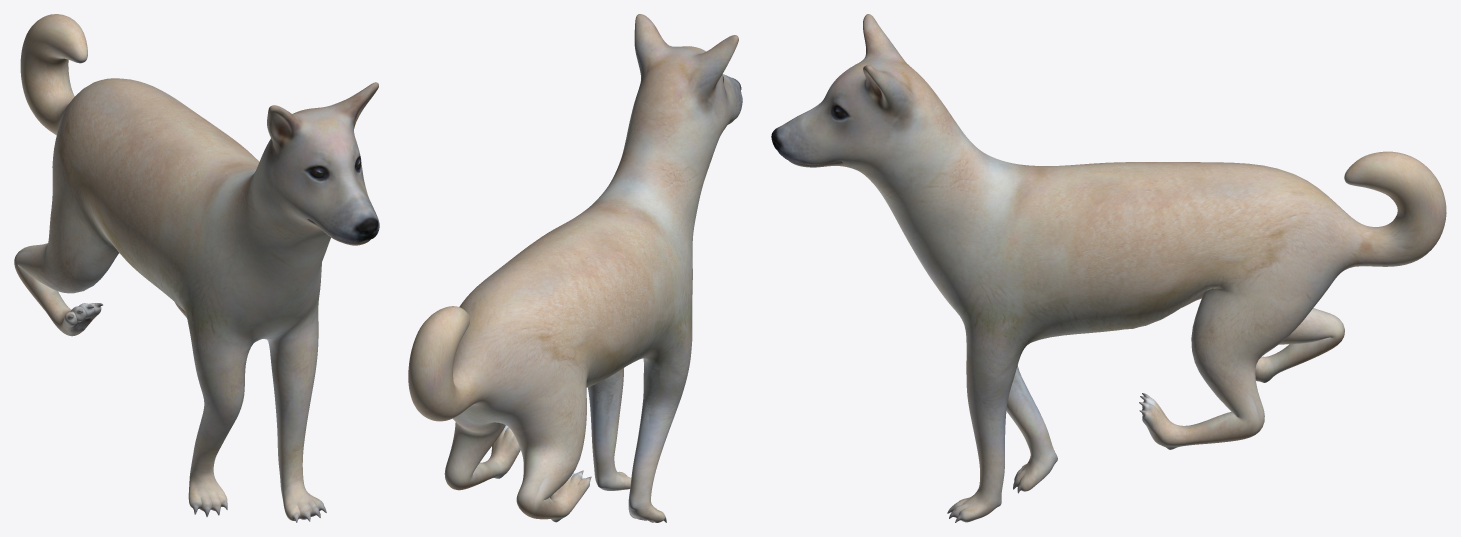
File: dog.glb
The picture shows the model from 3 angles, left to right: view 1: azimuth 30°, elevation 25°; view 2: azimuth 150°, elevation 25°; view 3: azimuth 270°, elevation 25°; orthographic projection. The views are drawn at different scales.
Parts seen in each view (by area): view 1: Default; view 2: Default; view 3: Default.
Boxes of the visible parts, x1,y1,x2,y2 form: Default: (14, 14, 379, 522); Default: (408, 14, 742, 522); Default: (771, 14, 1446, 522).
Bounding box in the file's own units: 11.35 × 34.86 × 45.74.
Materials: 1 (1 with a texture image).
